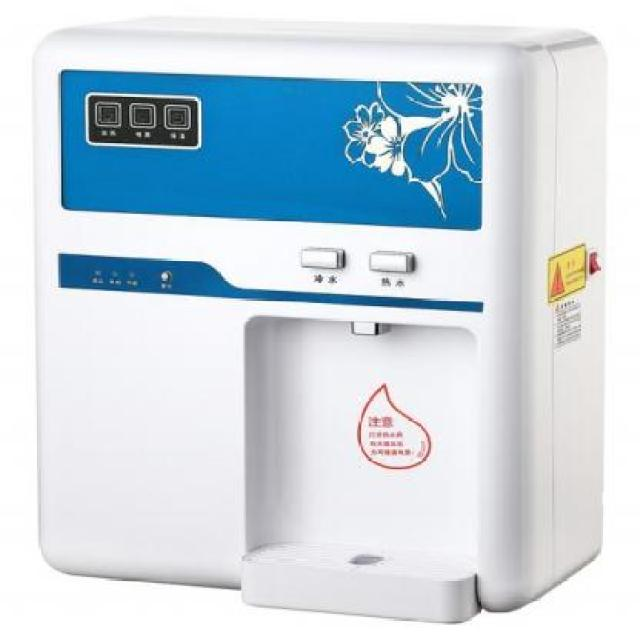cooler: (28, 11, 610, 628)
